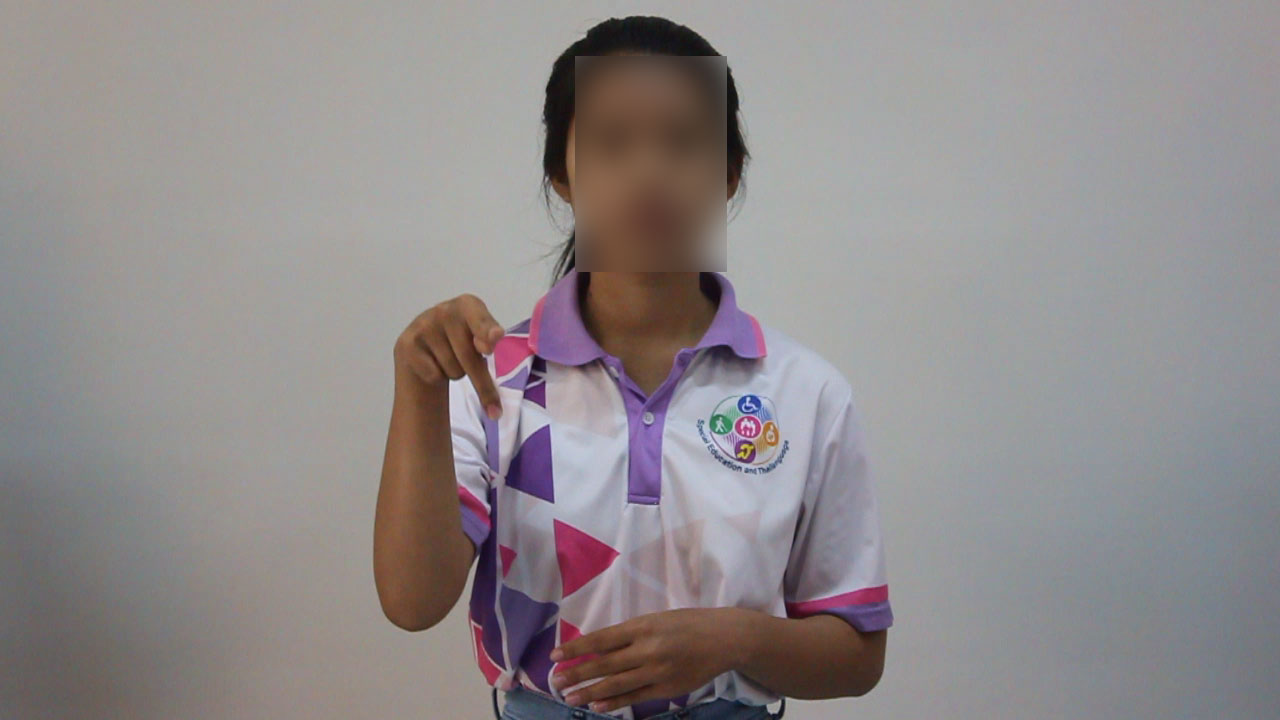por: (387, 273, 516, 431)
